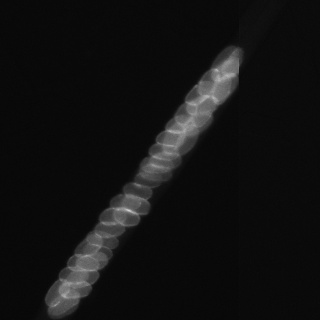embryo: (48, 290, 81, 318), (211, 47, 238, 79), (212, 73, 238, 103), (164, 124, 186, 156), (184, 113, 213, 137), (210, 57, 239, 81), (46, 278, 71, 305), (186, 82, 215, 105), (222, 48, 244, 78), (177, 126, 200, 154), (188, 95, 218, 116), (75, 252, 108, 271), (87, 230, 118, 250), (199, 68, 221, 96), (74, 233, 101, 255), (139, 164, 172, 182), (151, 152, 183, 170), (123, 194, 150, 215), (59, 282, 91, 299), (112, 208, 140, 227), (175, 102, 198, 125), (67, 254, 98, 271), (166, 115, 195, 133), (122, 182, 152, 199), (149, 143, 179, 160), (84, 244, 112, 262), (58, 267, 87, 284), (156, 129, 185, 146), (110, 194, 140, 210), (141, 158, 173, 173), (69, 271, 98, 287), (99, 208, 125, 225), (134, 171, 161, 187), (95, 223, 125, 237)
